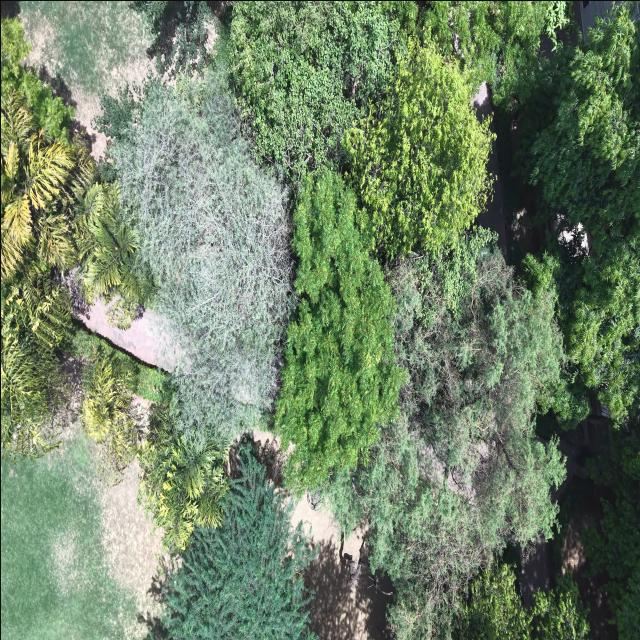DRY_AREA: (1, 422, 161, 639), (20, 422, 162, 639), (519, 404, 616, 639), (519, 407, 616, 639), (21, 1, 154, 158), (21, 1, 150, 155), (73, 462, 162, 639), (285, 493, 391, 639), (291, 496, 389, 639), (292, 497, 390, 639), (292, 496, 389, 639), (95, 460, 169, 620), (81, 298, 177, 370), (477, 139, 507, 255)
VEGETATION_TREE: (1, 1, 639, 639), (329, 10, 639, 639), (103, 3, 416, 442), (328, 228, 565, 639), (1, 18, 172, 481), (102, 65, 293, 442), (111, 69, 292, 443), (230, 2, 491, 253), (1, 18, 127, 459), (328, 412, 564, 639), (402, 243, 564, 546), (529, 8, 639, 422), (274, 170, 406, 494), (65, 322, 228, 551), (328, 412, 491, 639), (1, 92, 93, 458), (1, 18, 128, 282), (230, 1, 416, 178), (346, 38, 492, 256), (1, 427, 144, 639), (164, 440, 316, 639), (1, 18, 93, 285), (274, 301, 403, 491), (4, 1, 154, 122), (554, 222, 639, 424), (66, 322, 171, 483), (1, 92, 75, 279), (1, 262, 70, 459), (138, 404, 228, 550), (422, 1, 547, 106), (75, 182, 154, 328), (586, 423, 639, 639), (453, 560, 589, 639), (1, 17, 74, 140), (66, 323, 172, 401), (132, 1, 229, 83), (81, 350, 138, 482), (412, 226, 496, 312), (132, 1, 216, 79), (92, 87, 143, 181), (538, 340, 589, 430), (1, 16, 32, 94), (135, 362, 171, 402), (545, 1, 572, 50), (131, 1, 167, 24)
